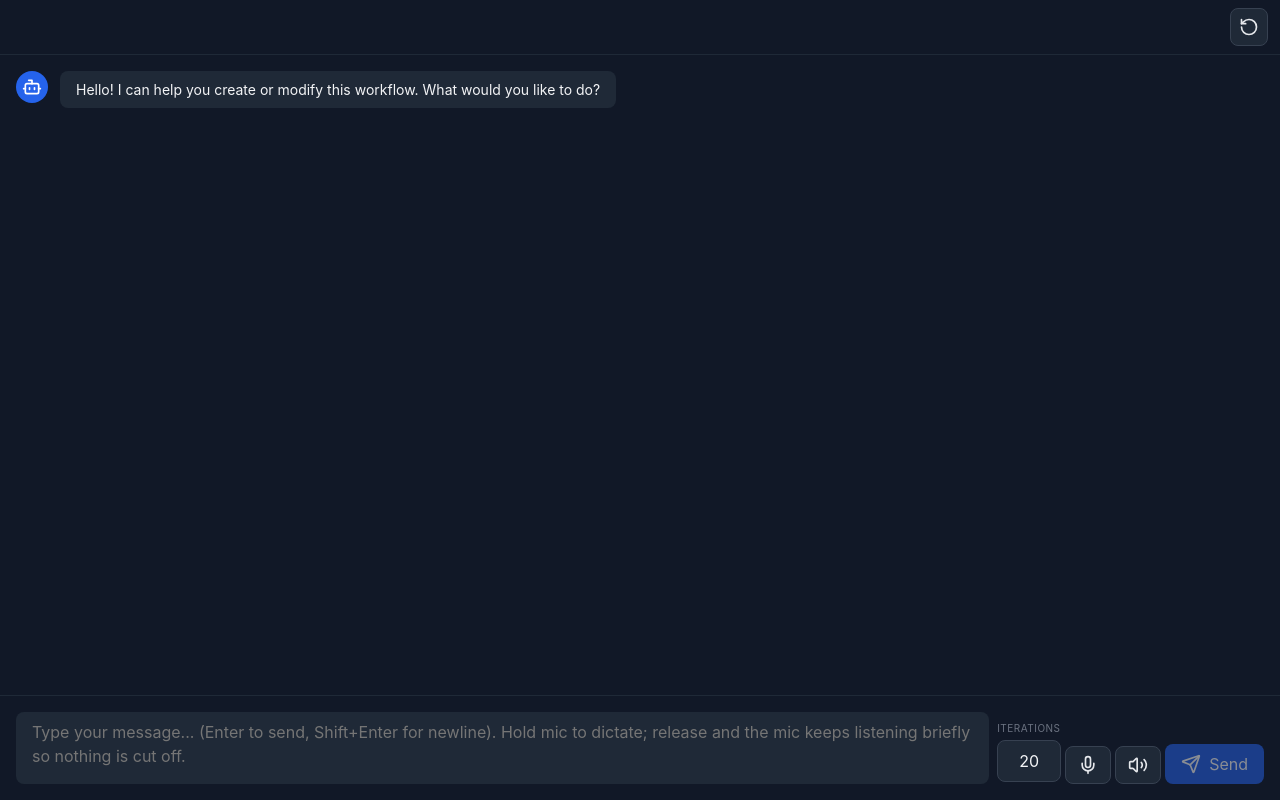
Test: WorkflowChat › should handle API error
The image size is (1280, 800).
Replace the text in the text box with placeholder "Type your message" with "Test message" at (503, 748), box x1=16 y1=712 x2=989 y2=784
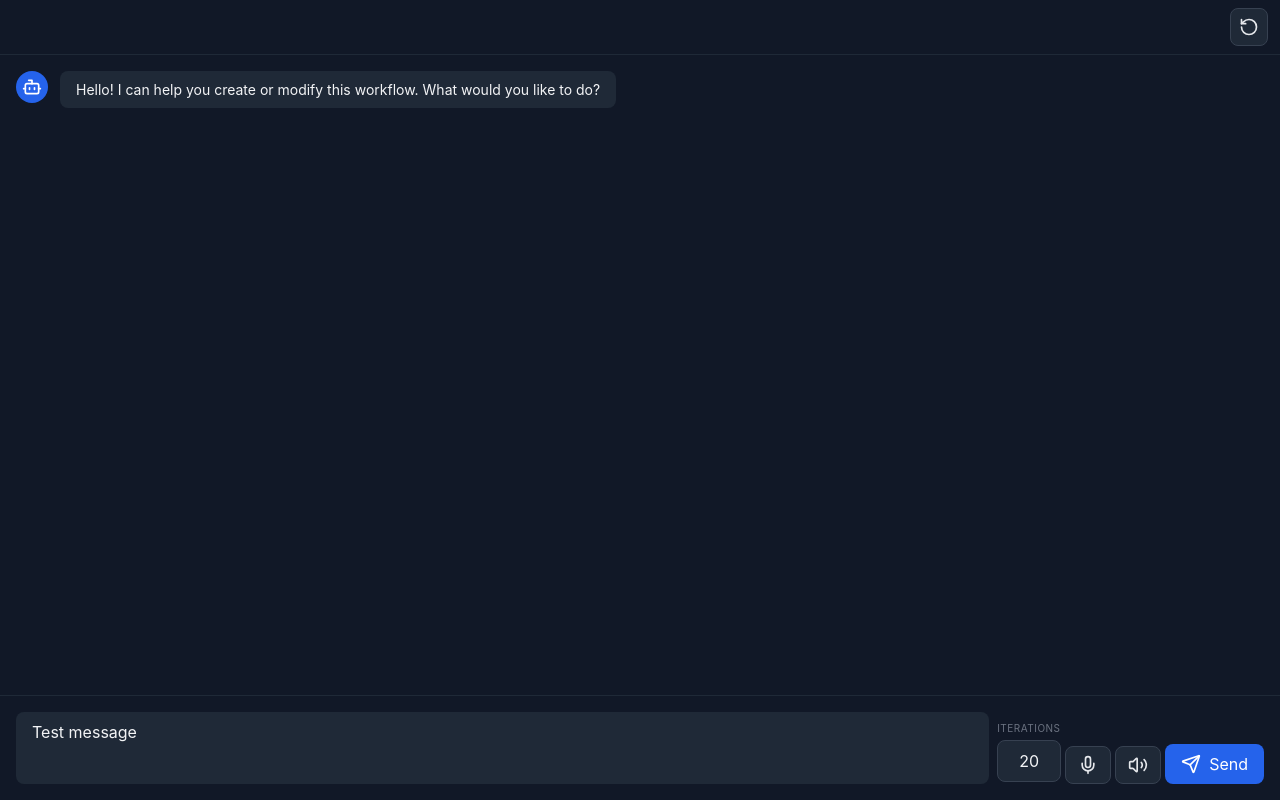
Click the button "Send" at (1215, 764), box x1=1165 y1=744 x2=1264 y2=784
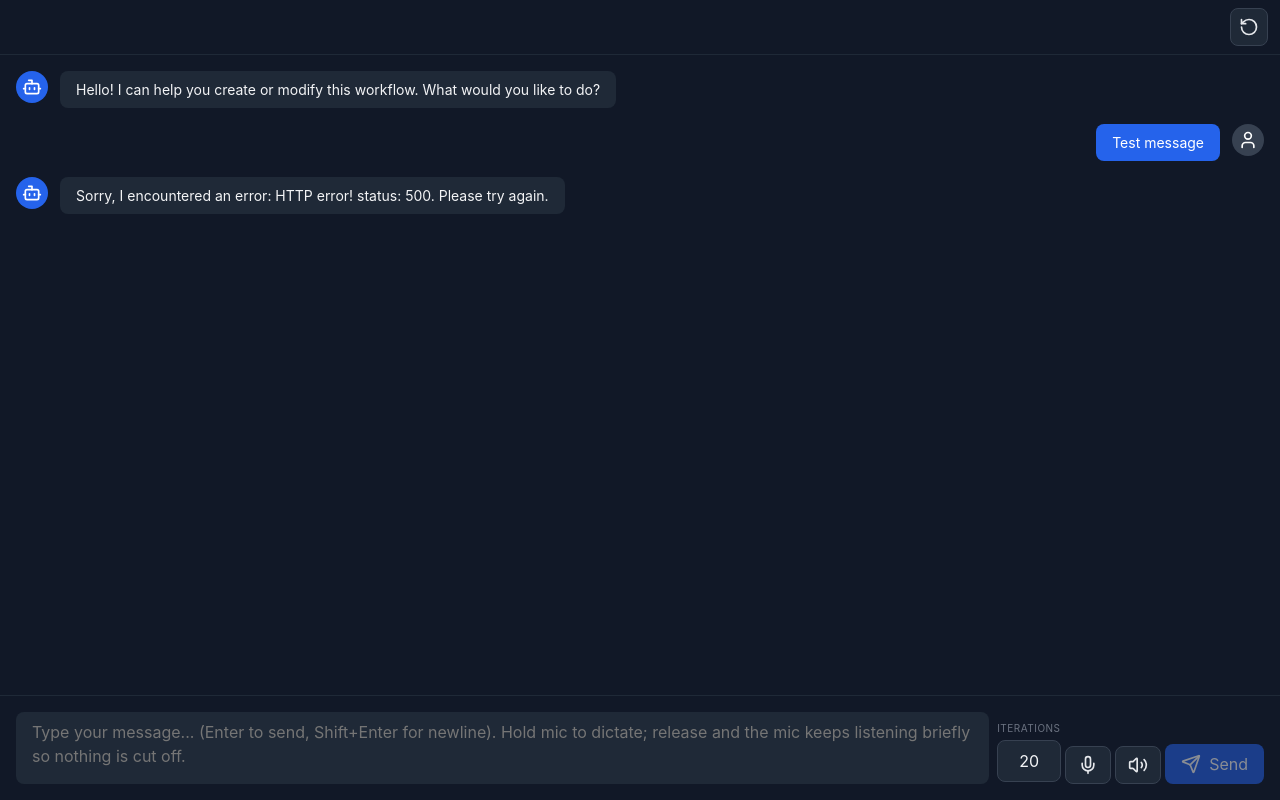
Now the text "HTTP error" is shown, box x1=76 y1=187 x2=549 y2=204
